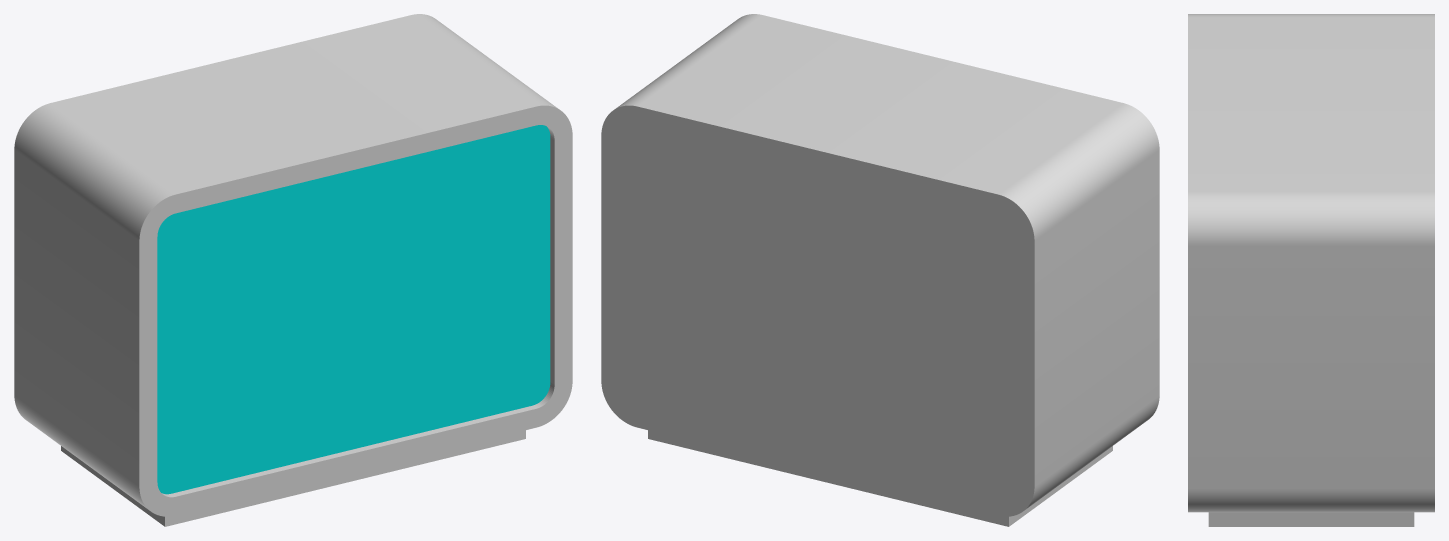
The model's file is counter-set-01-03.glb.
3 views of the same model, side by side, from view 1: azimuth 30°, elevation 25°; view 2: azimuth 150°, elevation 25°; view 3: azimuth 270°, elevation 25° (orthographic).
Parts seen in each view (by area): view 1: 3DGeom-4, 3DGeom-5; view 2: 3DGeom-4; view 3: 3DGeom-4.
Part boxes in pixels (x1,y1,x2,y2): 3DGeom-4: (14,14,572,526); 3DGeom-5: (157,125,550,494); 3DGeom-4: (601,14,1159,526); 3DGeom-4: (1188,14,1434,526).
Bounding box in the file's own units: 1.2 × 0.9 × 0.6.
